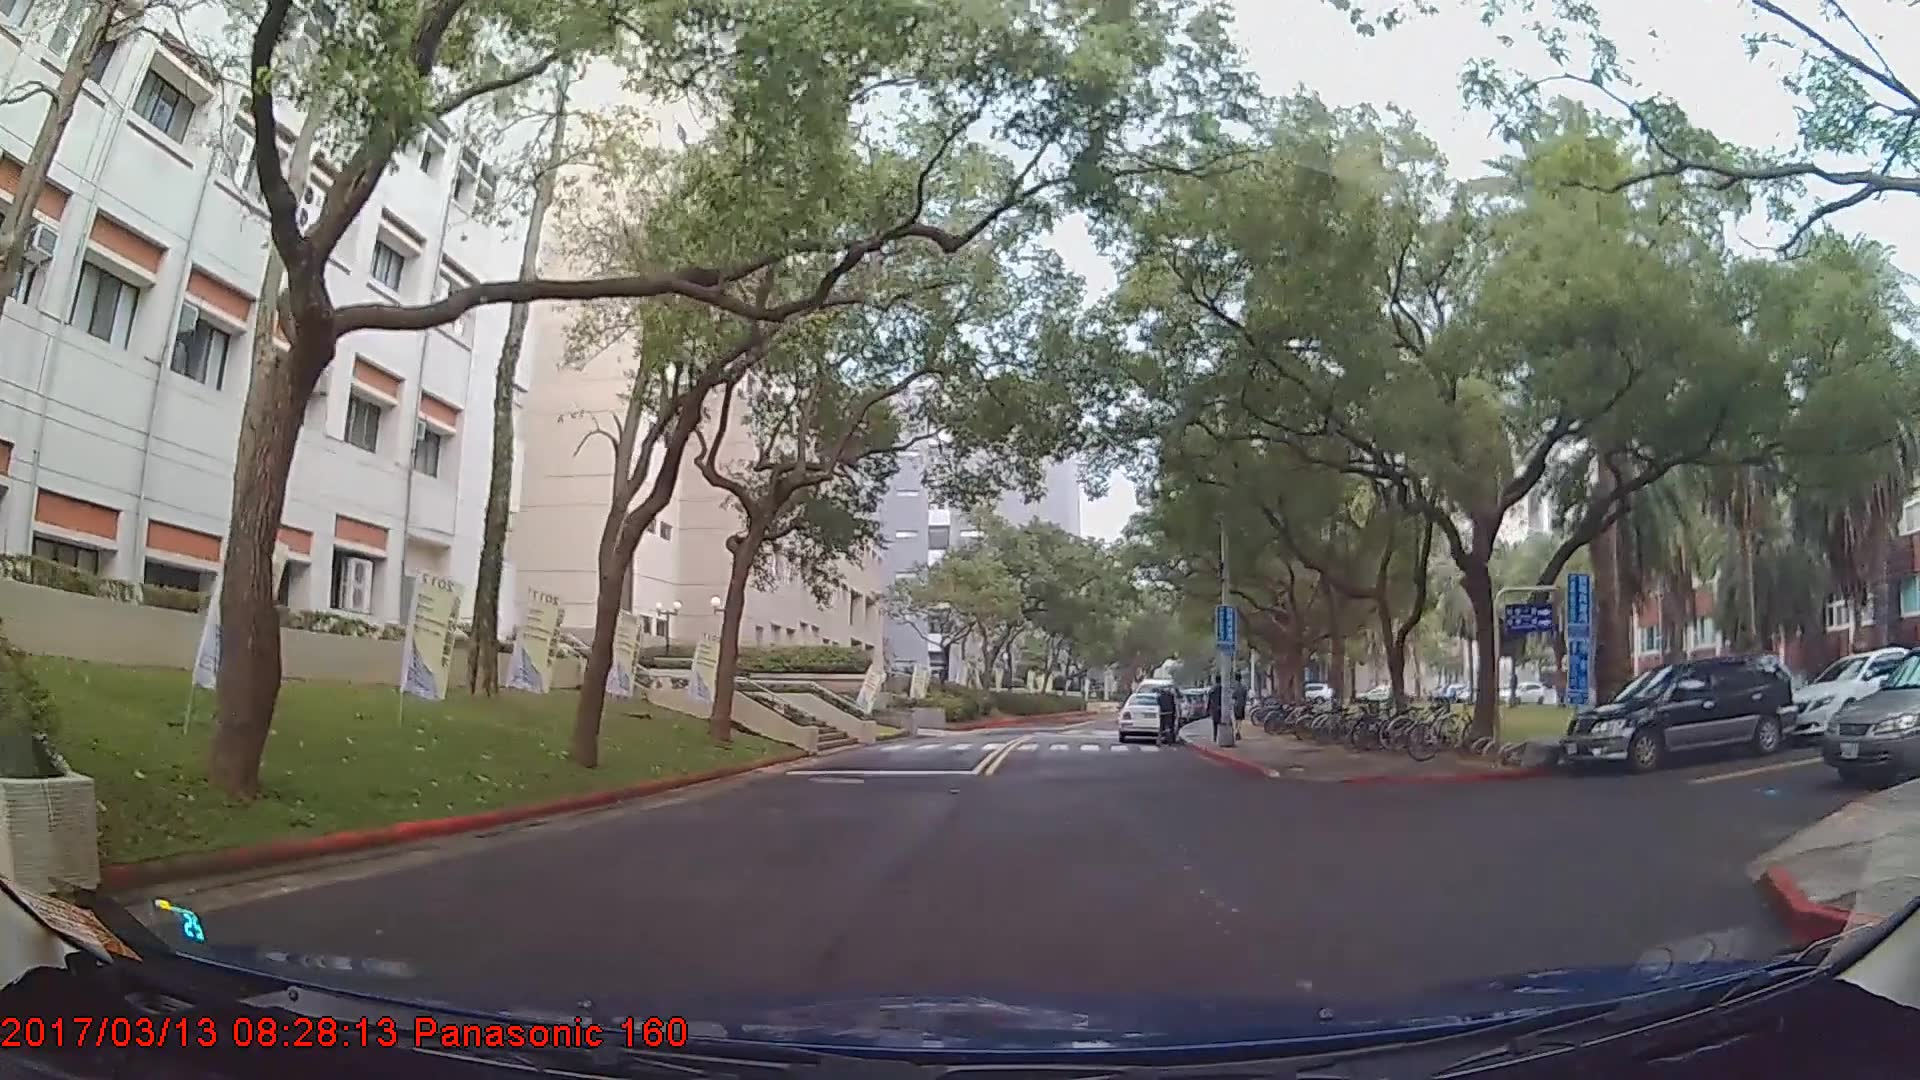pedestrian: (1207, 676, 1231, 743), (1155, 680, 1177, 749)
vehicle: (1562, 651, 1798, 774), (1822, 649, 1920, 786), (1785, 645, 1919, 741), (1115, 690, 1178, 740)
